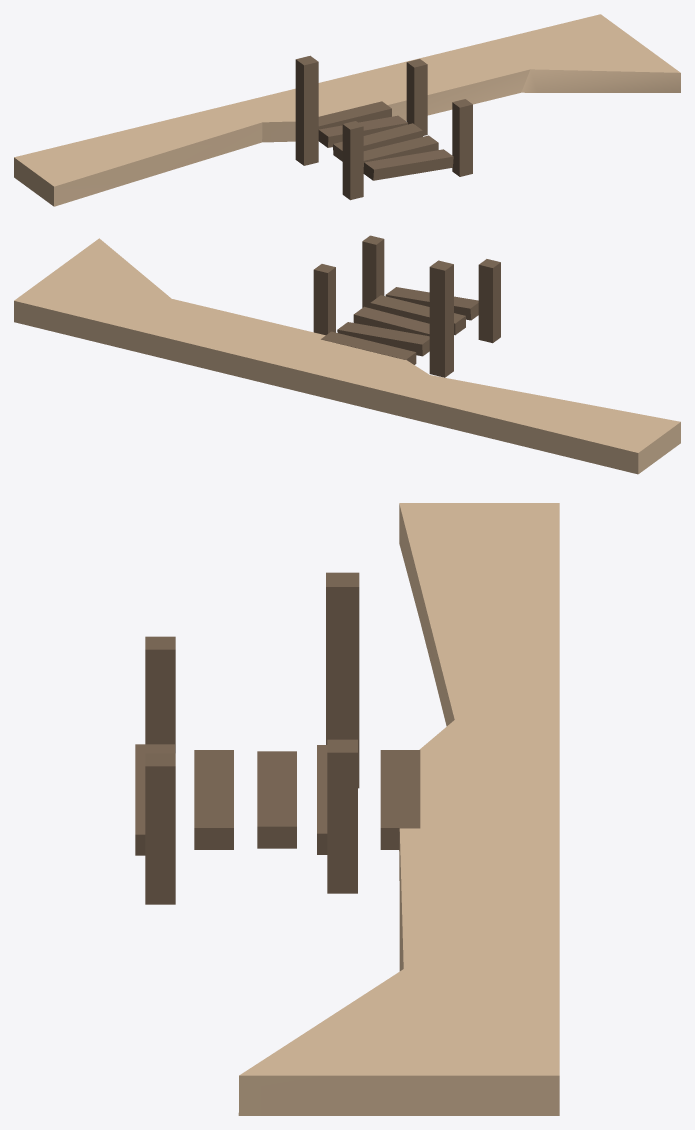
File: port.obj
3 views of the same model, one above another, from view 1: azimuth 30°, elevation 25°; view 2: azimuth 150°, elevation 25°; view 3: azimuth 270°, elevation 25° (orthographic). The views are drawn at different scales.
Visible parts, largest first — view 1: haitan, zhu7, zhu8, zhu5, zhu6, zhu4, zhu12, zhu10, zhu9, zhu11; view 2: haitan, zhu7, zhu5, zhu4, zhu11, zhu6, zhu10, zhu9, zhu12, zhu8; view 3: haitan, zhu7, zhu4, zhu6, zhu9, zhu10, zhu12, zhu5, zhu8, zhu11.
Boxes of the visible parts, x1,y1,x2,y2 form: haitan: [14, 14, 680, 206]; zhu7: [295, 55, 318, 165]; zhu8: [363, 149, 453, 180]; zhu5: [342, 121, 363, 200]; zhu6: [452, 99, 472, 176]; zhu4: [406, 59, 427, 135]; zhu12: [318, 101, 391, 129]; zhu10: [333, 123, 422, 161]; zhu9: [363, 135, 438, 166]; zhu11: [318, 115, 407, 147]; haitan: [14, 238, 680, 474]; zhu7: [429, 260, 453, 377]; zhu5: [478, 259, 500, 343]; zhu4: [313, 264, 335, 335]; zhu11: [337, 322, 429, 356]; zhu6: [362, 235, 384, 307]; zhu10: [353, 306, 429, 336]; zhu9: [370, 295, 465, 335]; zhu12: [321, 331, 416, 364]; zhu8: [385, 287, 478, 320]; haitan: [238, 503, 559, 1115]; zhu7: [326, 572, 359, 788]; zhu4: [327, 739, 357, 893]; zhu6: [145, 753, 175, 904]; zhu9: [194, 750, 233, 849]; zhu10: [257, 751, 296, 848]; zhu12: [380, 750, 420, 849]; zhu5: [145, 636, 175, 753]; zhu8: [135, 744, 174, 855]; zhu11: [317, 745, 327, 854].
Bounding box in the file's own units: 200 × 34.39 × 62.66.
